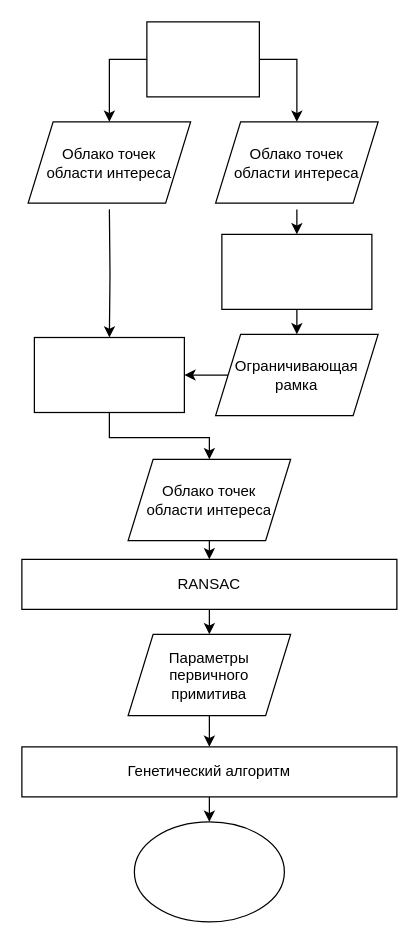
The diagram is 419 pixels wide and 944 high, and some of its shapes have lost their labels. The shapes that lost their labels are listed below. From the top down, each one's box as (x1, y1, x2, y2) in pixels, then its label:
(146, 21, 259, 97): RGB-D камера
(221, 233, 372, 309): Нейросетевая модель SSD
(33, 336, 184, 412): Фильтр облака точек
(133, 821, 284, 922): Мета-описание сцены
